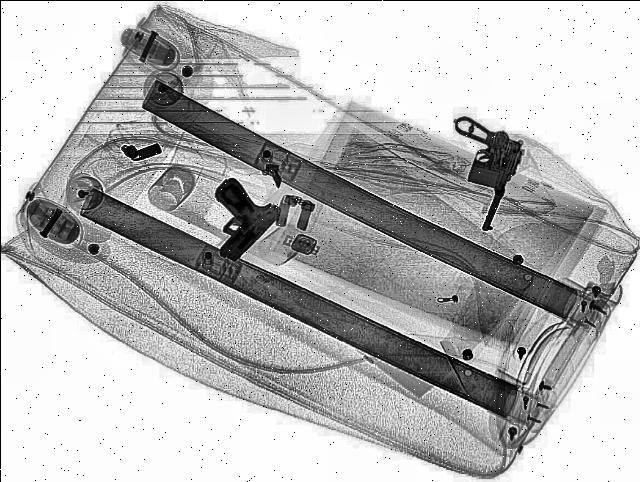Gun: (414, 115, 534, 235), (170, 175, 296, 265)
